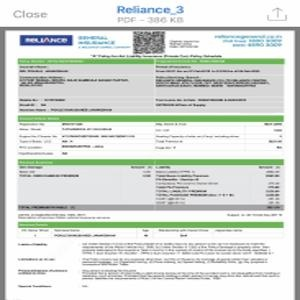image: (19, 35, 73, 46)
table: (16, 221, 287, 286), (16, 57, 284, 112), (17, 159, 284, 211), (17, 114, 283, 157)
text: (211, 32, 283, 48)
